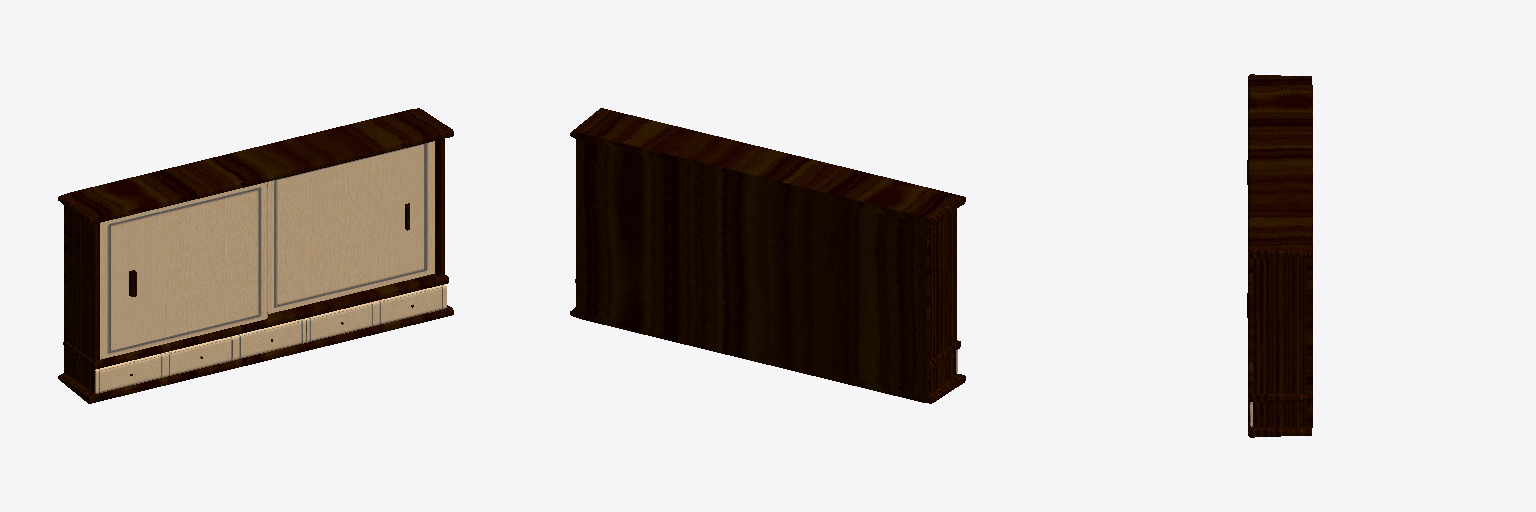
The picture shows the model from 3 angles: view 1: azimuth 30°, elevation 25°; view 2: azimuth 150°, elevation 25°; view 3: azimuth 270°, elevation 25°; orthographic projection.
Visible parts, largest first — view 1: Box032, Box034, Box031, Box029, Box028, Box007, Box005, Box022, Box012, Box017, Box027, Box030 (+1 smaller); view 2: Box006, Box031, Box029, Box007, Box002; view 3: Box031, Box030, Box025, Box006, Box028, Box007.
Part boxes in pixels (x1,y1,x2,y2): Box032: (100,182,267,359); Box034: (268,141,434,313); Box031: (58,108,453,224); Box029: (67,208,99,360); Box028: (63,274,448,369); Box007: (58,305,453,403); Box005: (95,353,165,393); Box022: (306,301,376,342); Box012: (165,336,235,376); Box017: (235,318,305,359); Box027: (376,284,446,325); Box030: (435,139,444,276); Box006: (576,139,929,395); Box031: (570,108,965,224); Box029: (930,209,956,360); Box007: (570,307,965,403); Box002: (930,351,955,391); Box031: (1248,74,1311,258); Box030: (1253,257,1306,393); Box025: (1253,402,1306,425); Box006: (1307,85,1312,427); Box028: (1248,258,1311,401); Box007: (1248,401,1311,437).
Bounding box in the file's own units: 155 × 75.99 × 24.14.
Materials: 3 (3 with a texture image).